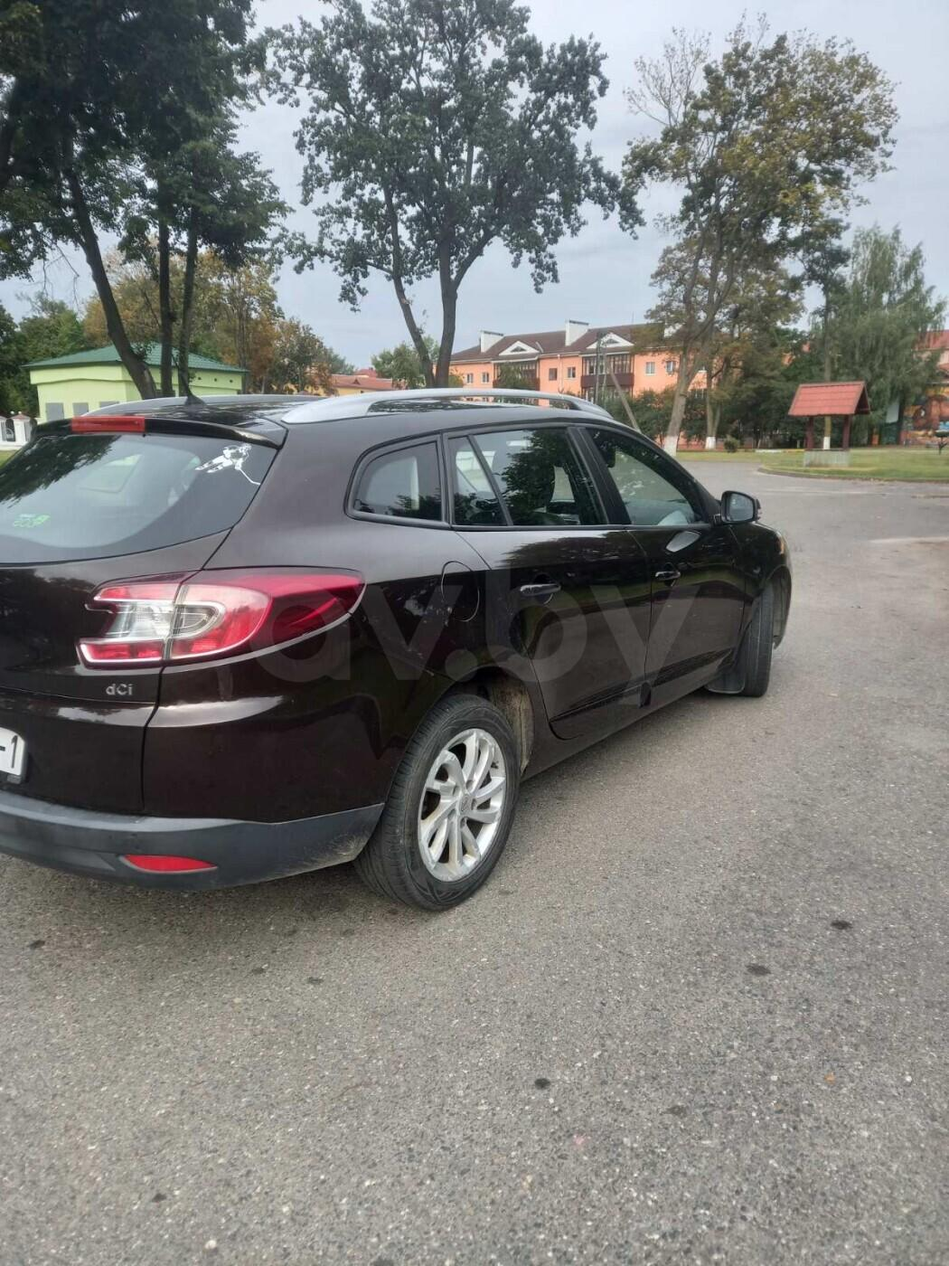Megane_2014-2016: (0, 383, 819, 899)
